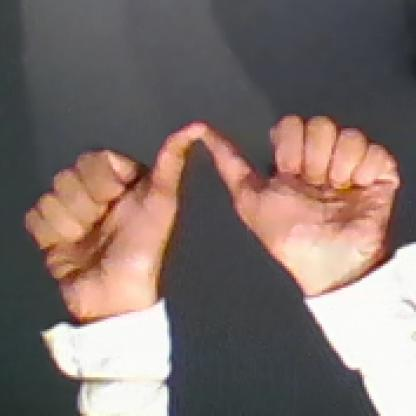A: (26, 104, 400, 300)
